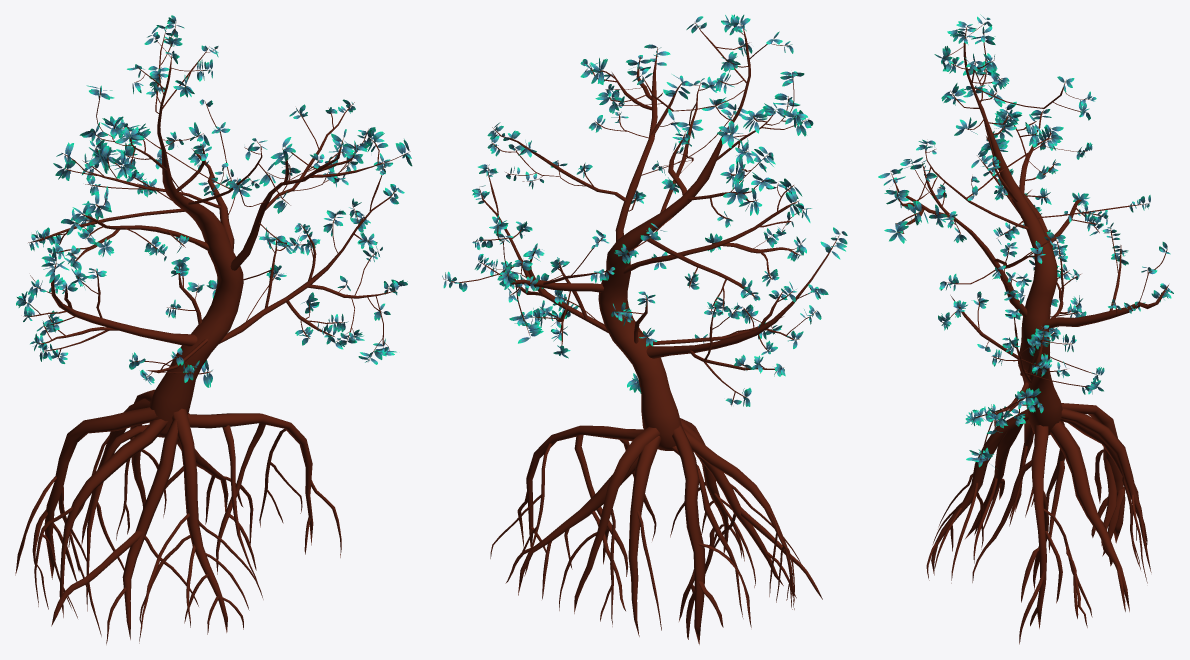
Rendered from Mangrove_Dream_02 1.fbx.
3 renders of one model, left to right at view 1: azimuth 30°, elevation 25°; view 2: azimuth 150°, elevation 25°; view 3: azimuth 270°, elevation 25°, orthographic. The views are drawn at different scales.
Parts seen in each view (by area): view 1: Tree, Leaf_02; view 2: Tree, Leaf_02; view 3: Tree, Leaf_02.
Boxes of the visible parts, bbox=[...] form: Tree: bbox=[15, 21, 410, 644]; Leaf_02: bbox=[16, 15, 412, 387]; Tree: bbox=[443, 22, 840, 644]; Leaf_02: bbox=[442, 14, 847, 406]; Tree: bbox=[890, 23, 1168, 644]; Leaf_02: bbox=[878, 14, 1173, 467].
Size of the model in its own units: 705 by 1074 by 530.
